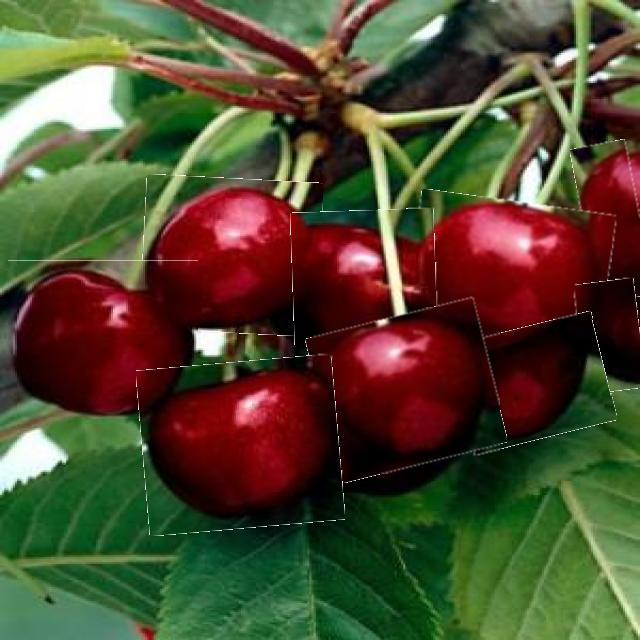cherry: (140, 358, 342, 532), (408, 196, 612, 350), (312, 307, 500, 474), (8, 260, 198, 417), (141, 176, 322, 335), (454, 319, 612, 447), (291, 209, 436, 344), (577, 141, 640, 301), (577, 279, 640, 392)
